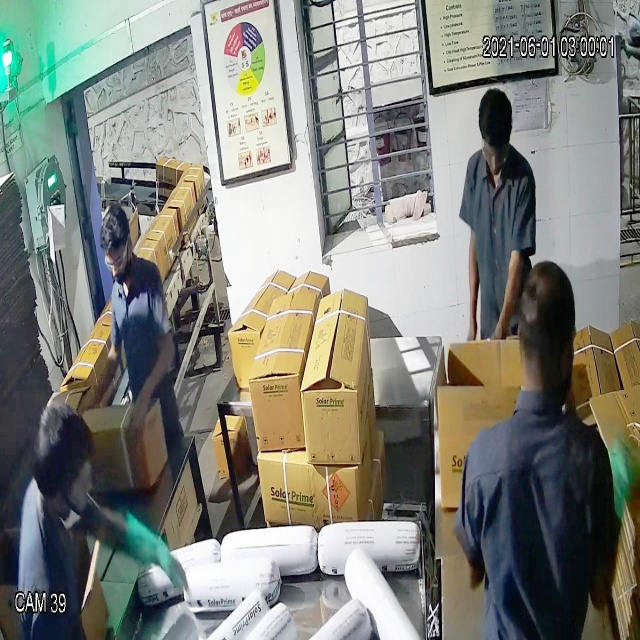Gafas: (97, 239, 136, 283)
